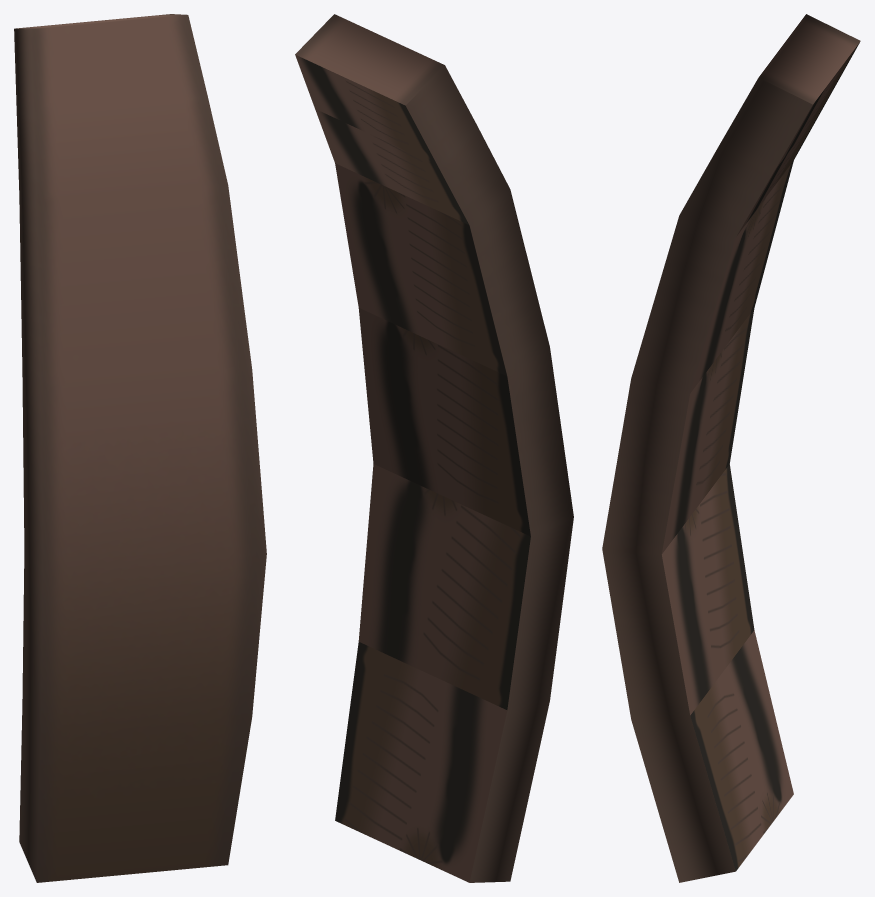
File: Barrel_Piece3.fbx
3 renders of one model, left to right at view 1: azimuth 30°, elevation 25°; view 2: azimuth 150°, elevation 25°; view 3: azimuth 270°, elevation 25°, orthographic. The views are drawn at different scales.
Visible parts, largest first — view 1: Barrel_Piece_3; view 2: Barrel_Piece_3; view 3: Barrel_Piece_3.
Boxes of the visible parts, x1=… form: Barrel_Piece_3: x1=14, y1=14, x2=266, y2=882; Barrel_Piece_3: x1=295, y1=14, x2=573, y2=882; Barrel_Piece_3: x1=602, y1=14, x2=860, y2=882.
Bounding box in the file's own units: 28.13 × 110 × 31.88.
Materials: 1 (1 with a texture image).
